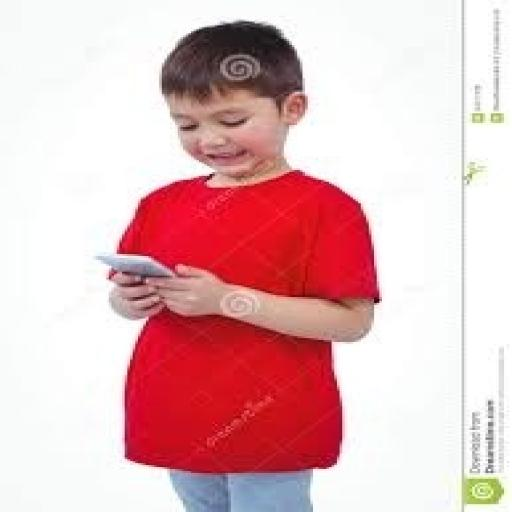texting: (98, 18, 382, 510)
